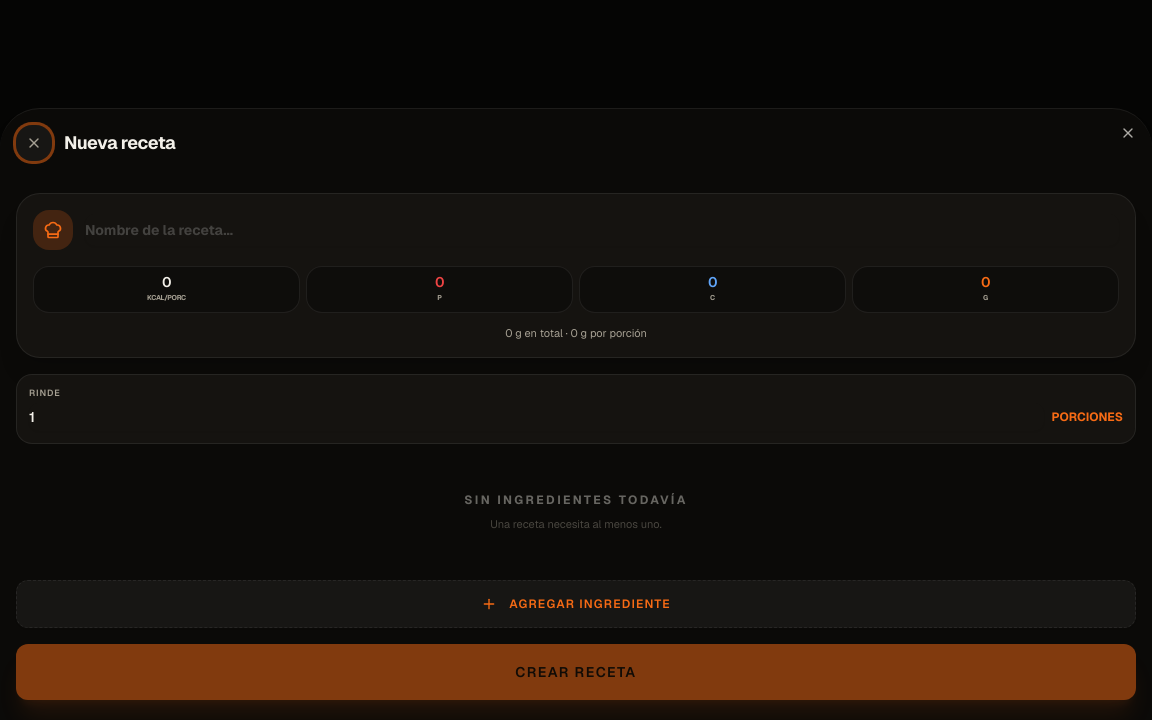
Test: RecipeEditorSheet — creating › recomputes the per-serving totals live as the yield changes
Click the button "Agregar Ingrediente". click: (576, 604)
box: left=16, top=580, right=1136, bottom=628
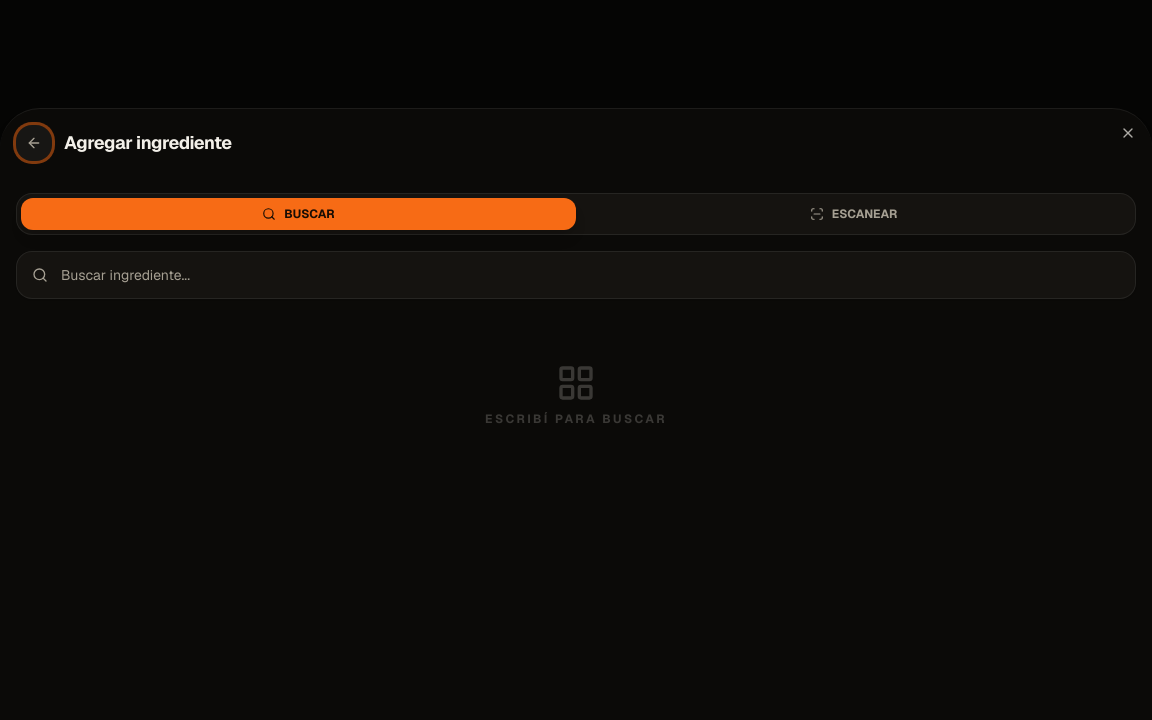
Type "len" into the field with placeholder "Buscar ingrediente...". click: (576, 275)
box: left=16, top=251, right=1136, bottom=299
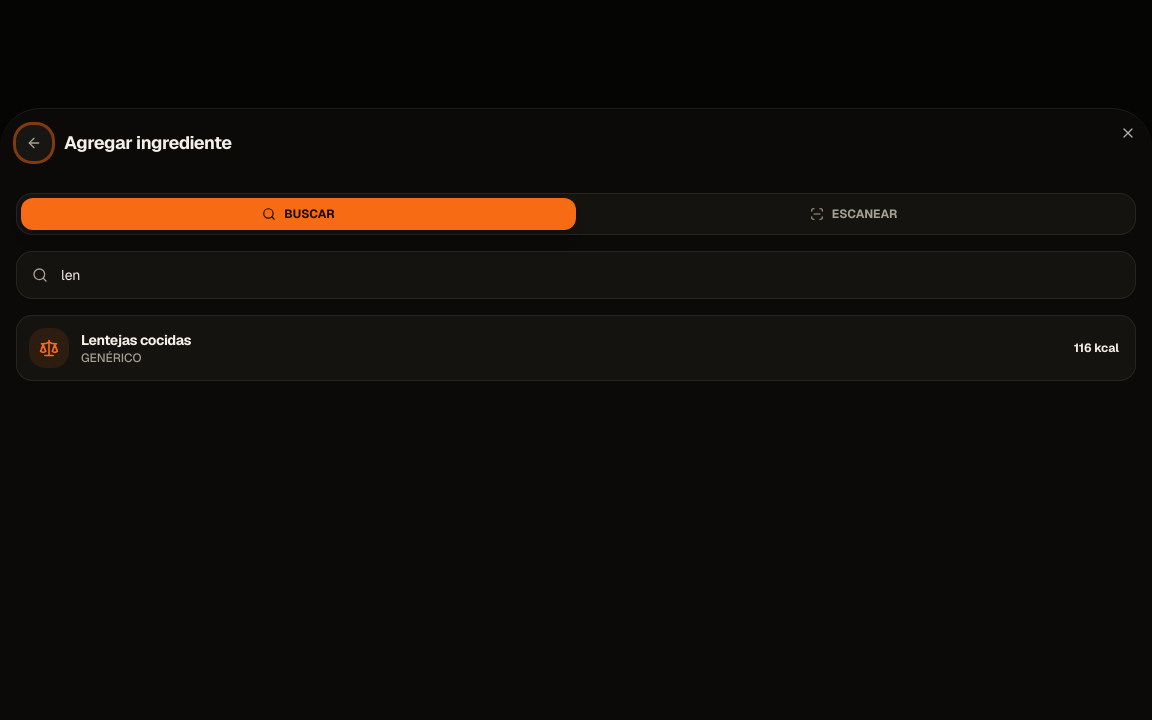
Click the heading "Lentejas cocidas". click: (136, 340)
box: left=81, top=330, right=191, bottom=350
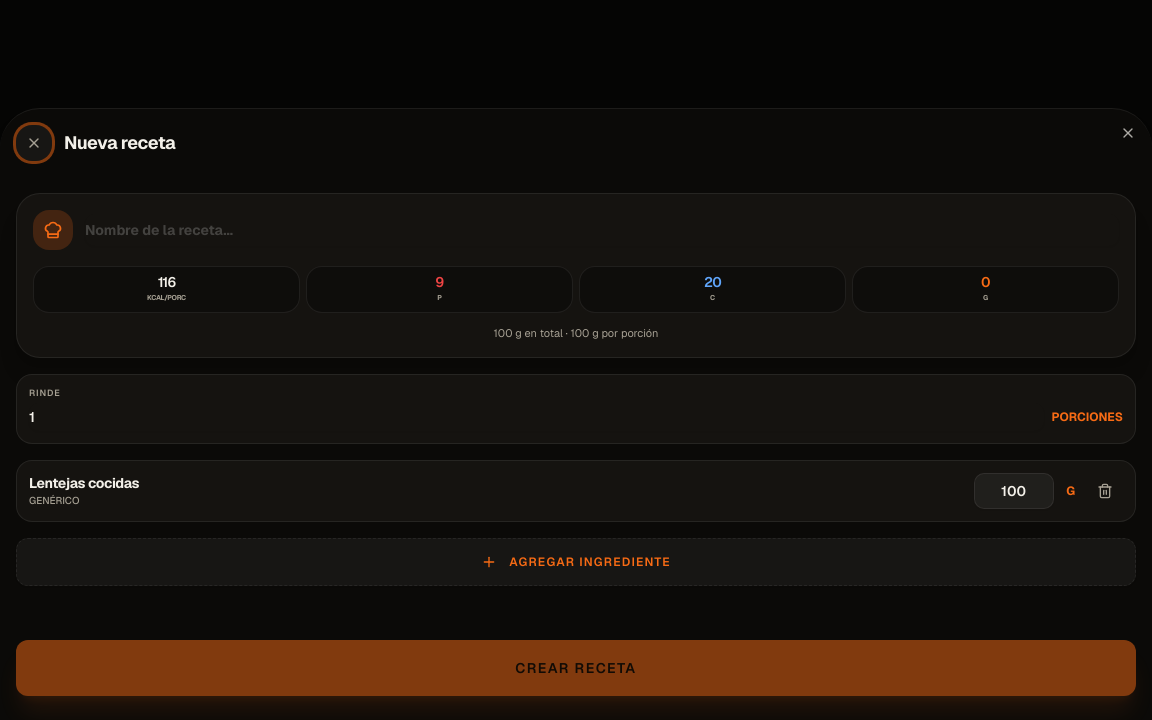
Result: the text "116" is shown at left=158, top=275, right=175, bottom=289
Replace the text in the number field named "Rinde" with "2". click: (536, 416)
box: left=29, top=402, right=1044, bottom=430
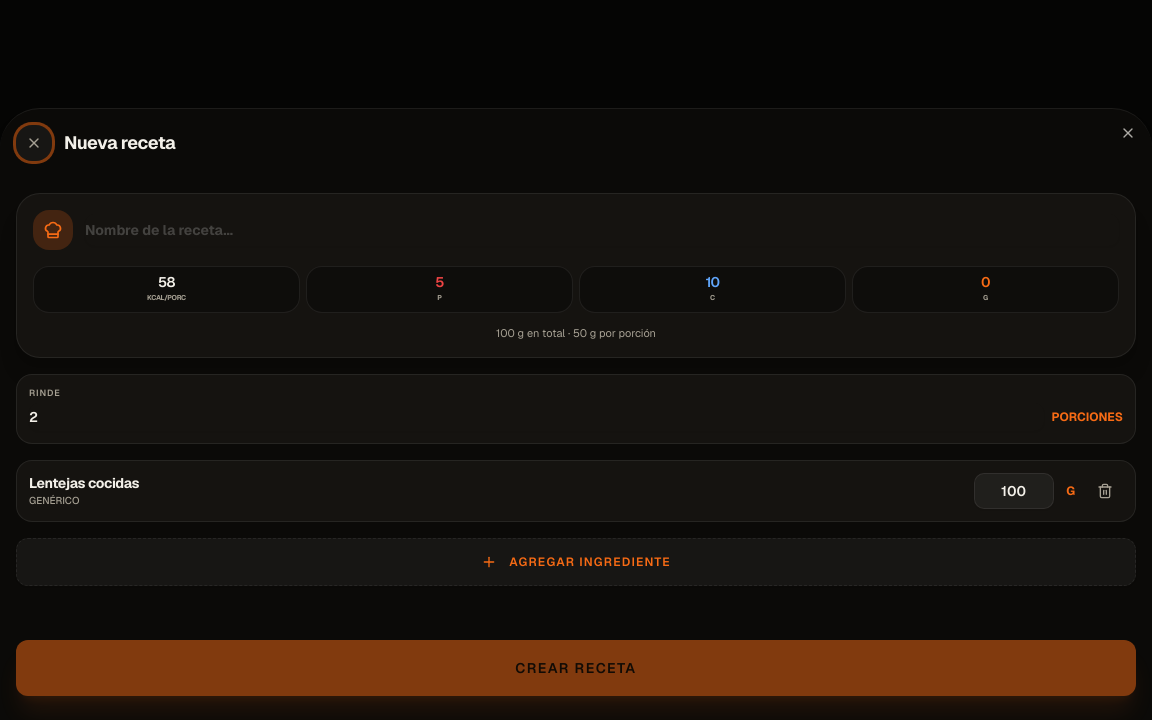
Result: the text "58" is shown at left=158, top=275, right=175, bottom=289
